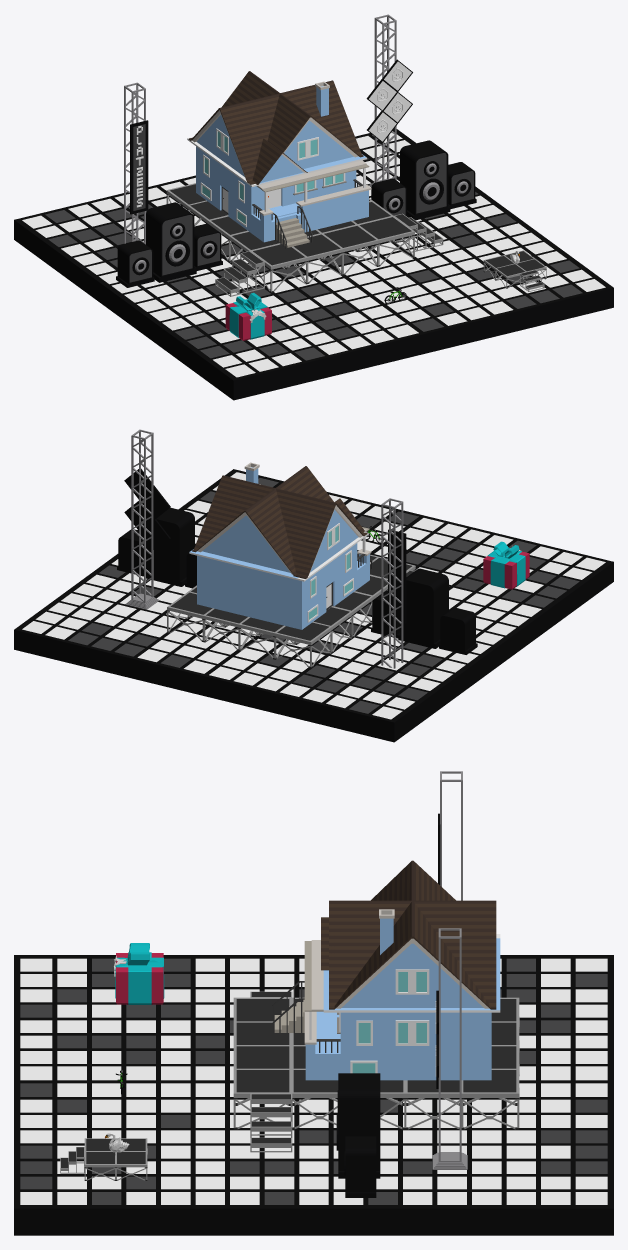
3 renders of one model, top to bottom at view 1: azimuth 30°, elevation 25°; view 2: azimuth 150°, elevation 25°; view 3: azimuth 270°, elevation 25°, orthographic. The views are drawn at different scales.
Visible parts, largest first — view 1: Cube.008, Cube.1594, OBJRANDOM_GIANT_PRESENT; view 2: Cube.008, Cube.1594, OBJRANDOM_GIANT_PRESENT; view 3: Cube.008, Cube.1594, OBJRANDOM_GIANT_PRESENT.
Boxes of the visible parts, bbox=[...] form: Cube.008: bbox=[14, 14, 613, 400]; Cube.1594: bbox=[187, 71, 371, 248]; OBJRANDOM_GIANT_PRESENT: bbox=[225, 292, 271, 340]; Cube.008: bbox=[14, 429, 613, 742]; Cube.1594: bbox=[189, 462, 372, 629]; OBJRANDOM_GIANT_PRESENT: bbox=[483, 541, 529, 589]; Cube.008: bbox=[14, 771, 613, 1235]; Cube.1594: bbox=[272, 860, 500, 1080]; OBJRANDOM_GIANT_PRESENT: bbox=[113, 943, 164, 1004].
Bounding box in the file's own units: 4000 × 1995 × 4000.
Materials: 37 (2 with a texture image).
